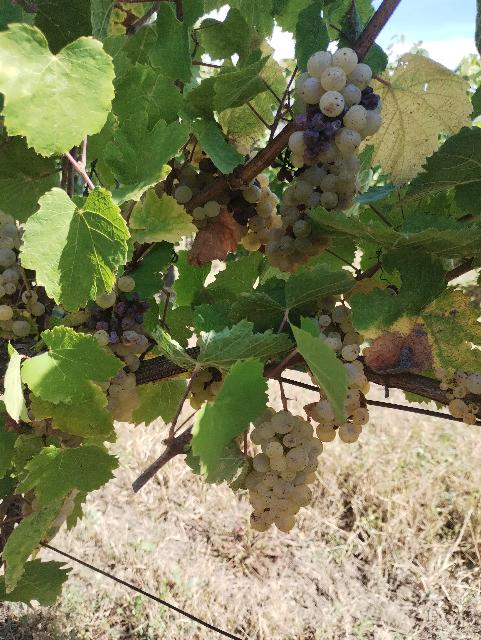grapes: (244, 48, 382, 274), (245, 408, 324, 532), (310, 298, 370, 444)
